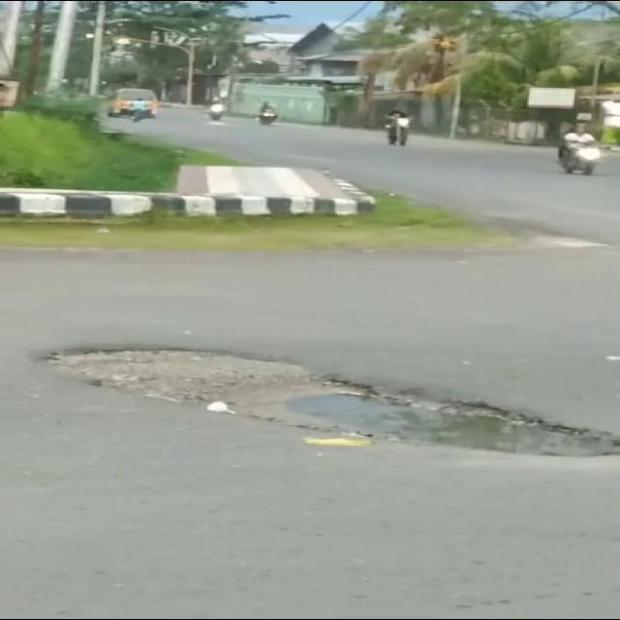lubang: (48, 349, 619, 456)
